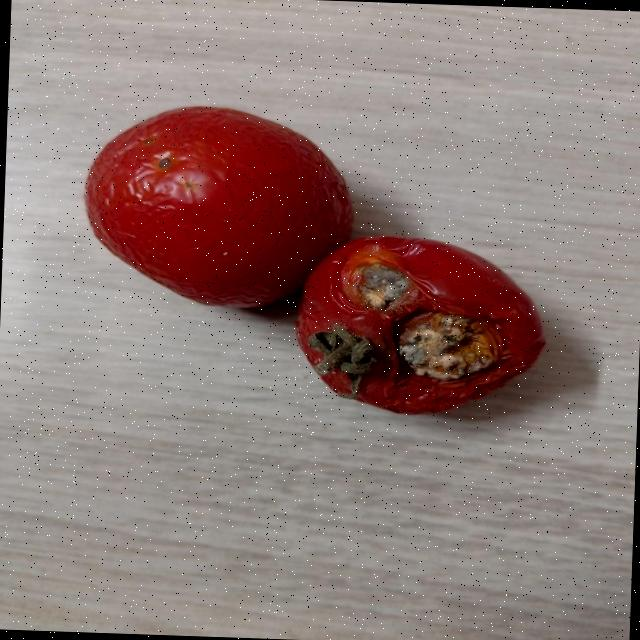Rotten: (296, 231, 550, 416)
